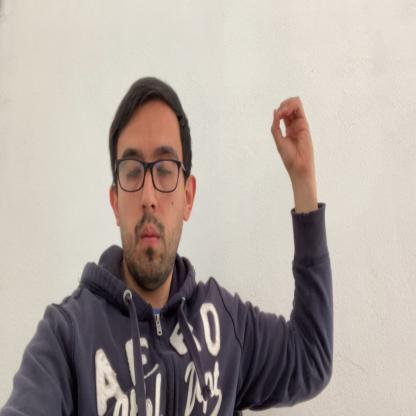O: (270, 96, 314, 175)
